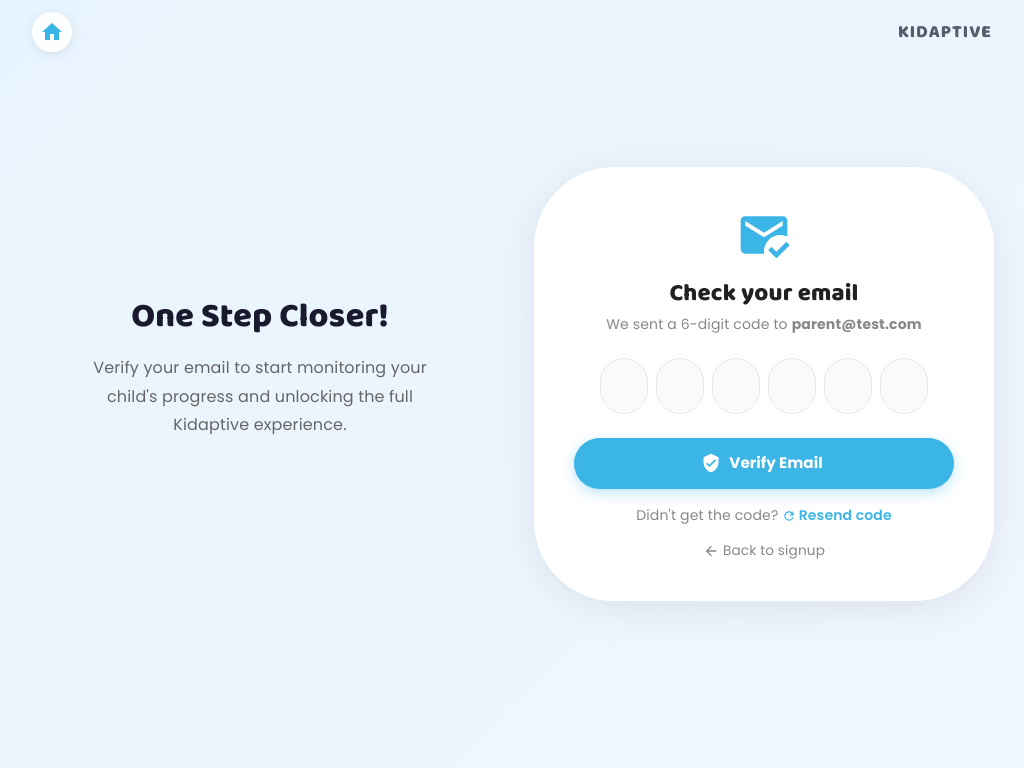
Test: VerifyEmailPage › shows error message when OTP is wrong
This screenshot has width=1024, height=768.
Type "9" into the 1st field at point(624, 386), box [600,358,648,414]
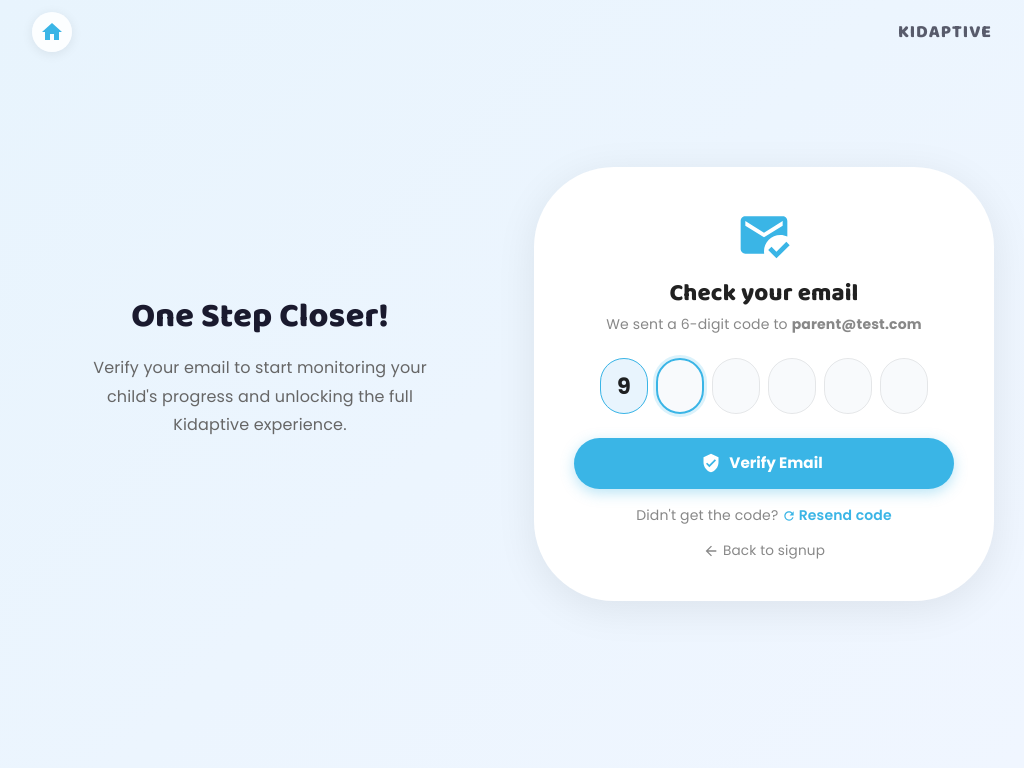
Type "9" into the 2nd field at point(680, 386), box [656,358,704,414]
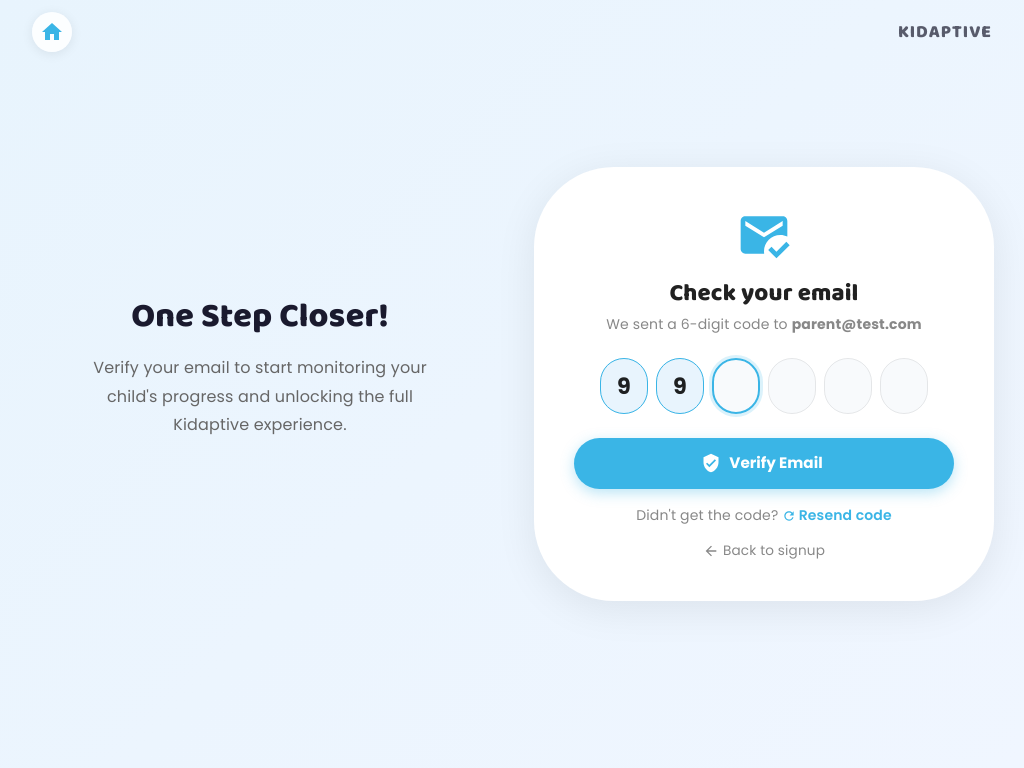
Type "9" into the 3rd field at point(736, 386), box [712,358,760,414]
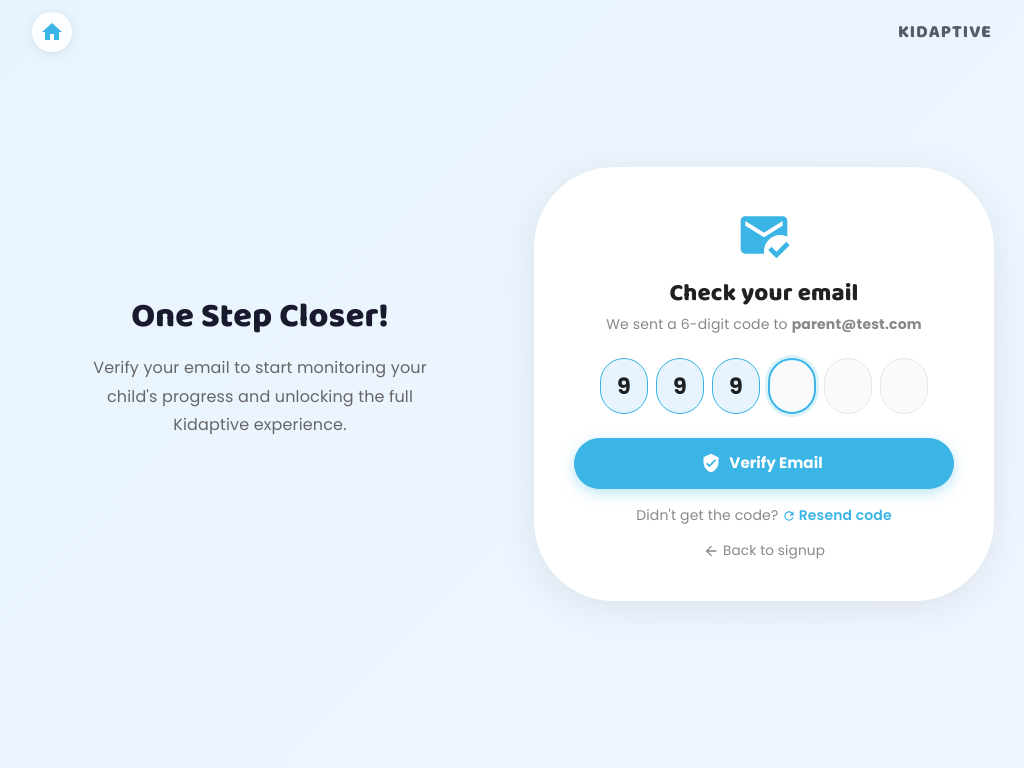
Type "9" into the 4th field at point(792, 386), box [768,358,816,414]
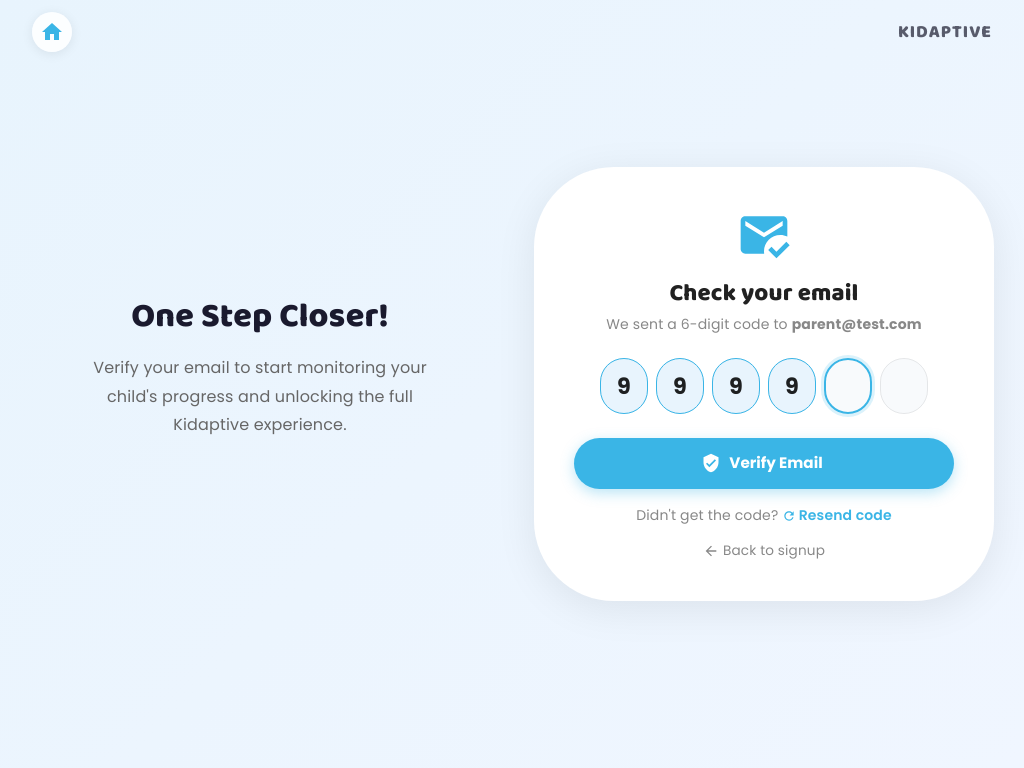
Type "9" into the 5th field at point(848, 386), box [824,358,872,414]
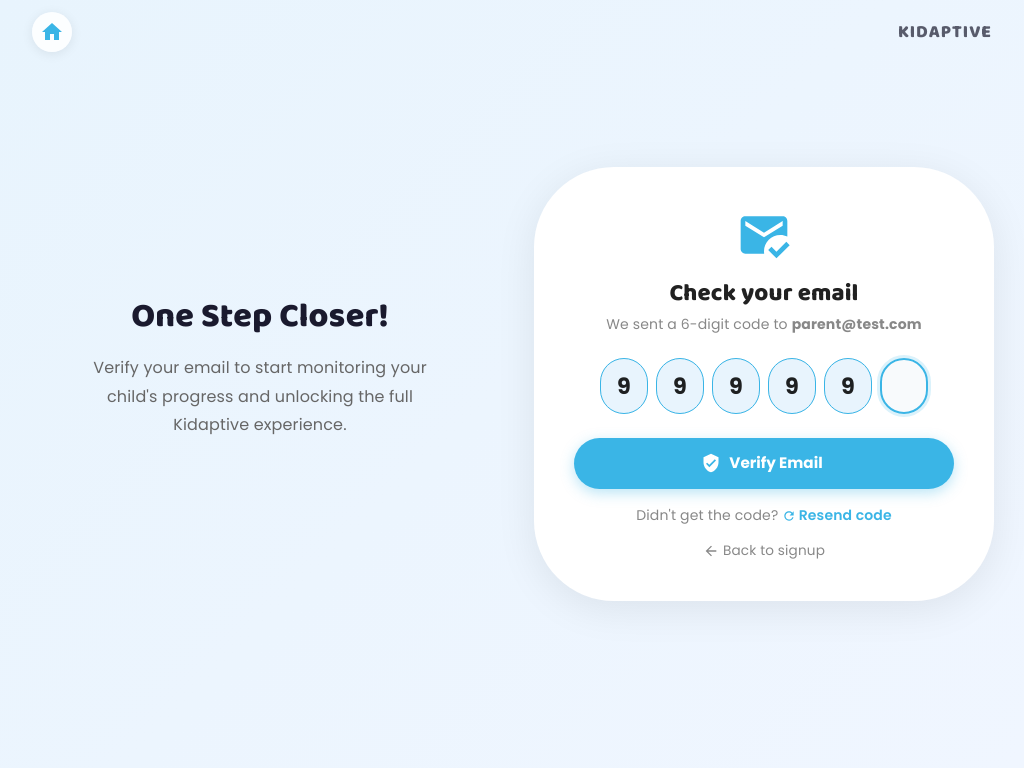
Type "9" into the 6th field at point(904, 386), box [880,358,928,414]
Click the button "Verify Email" at point(764, 463), box [574,438,954,489]
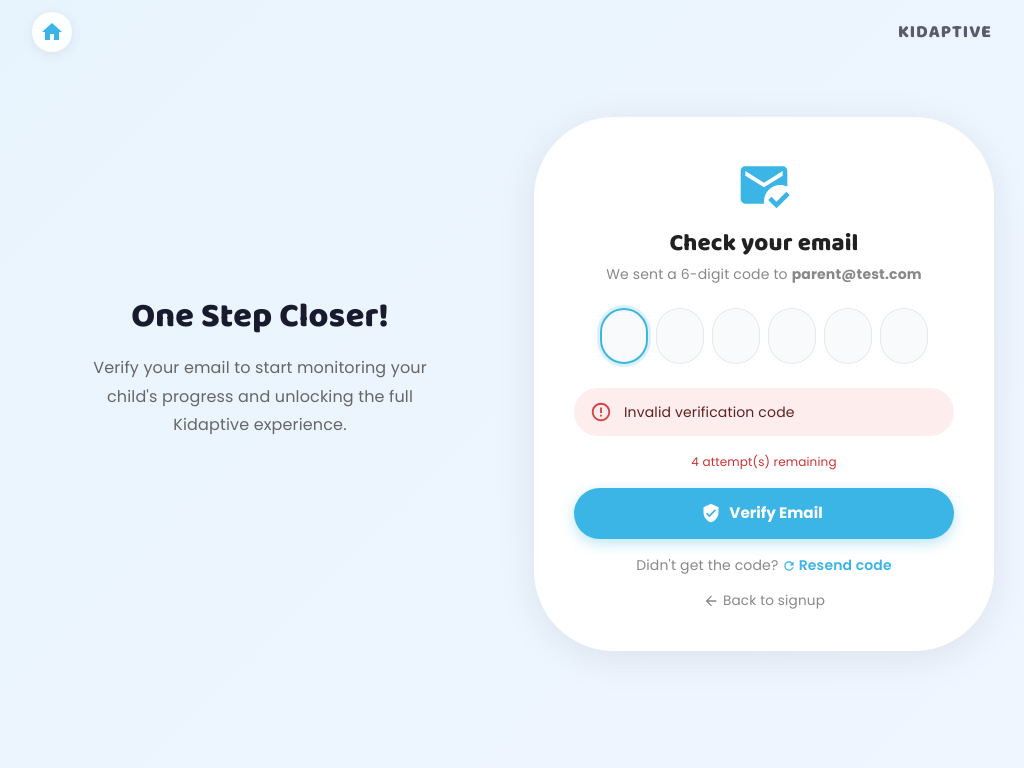
Expected: the text "Invalid verification code" is shown, [624,402,795,422]
